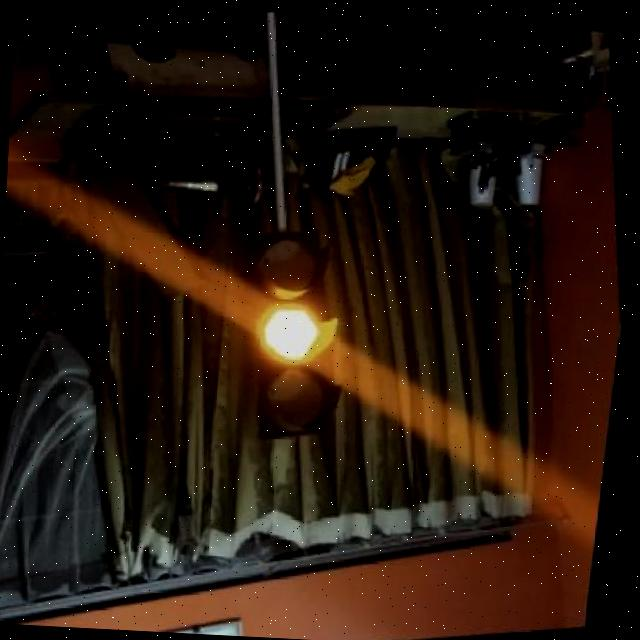yellow_light: (230, 220, 360, 443)
